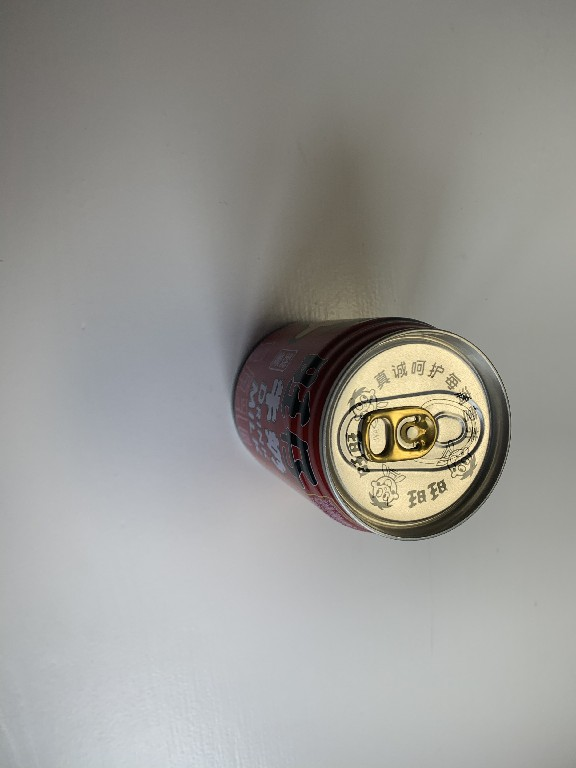can: (228, 313, 514, 547)
